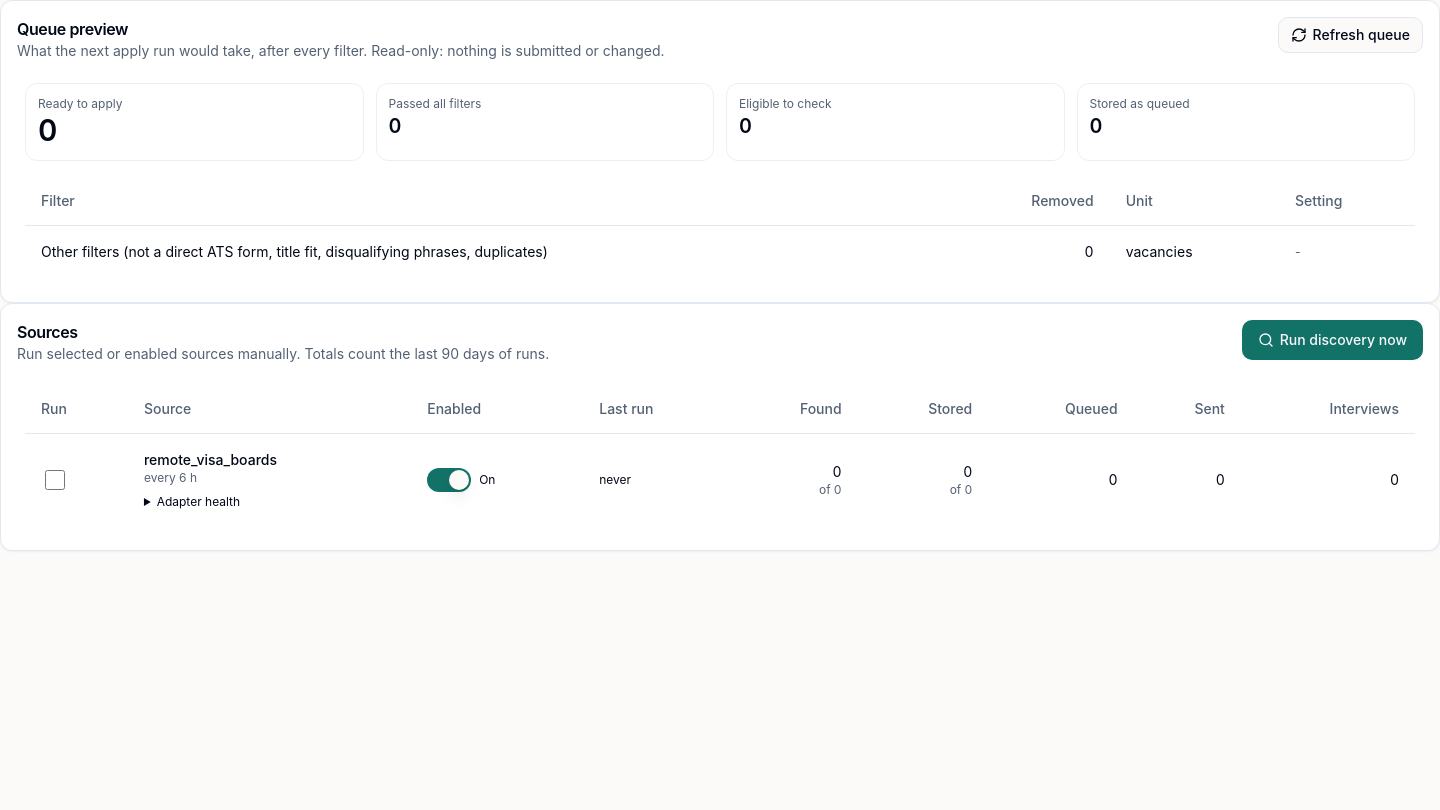
does not imply successful checks when no adapter history exists
What coordinates should you click on to do the following:
click the heading "Adapter health"
I would click on:
 (198, 502)
Its box is top-left (157, 494), bottom-right (240, 509).
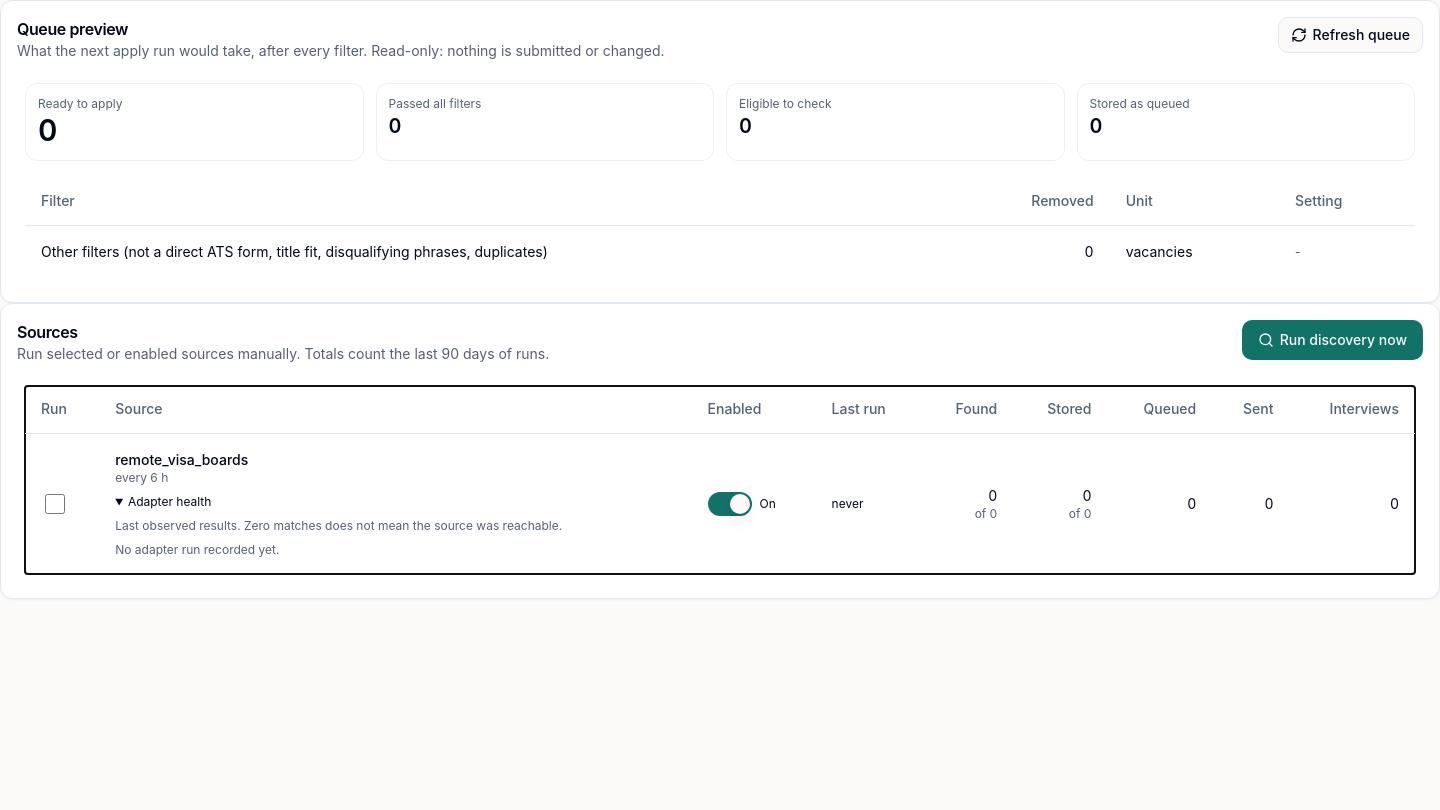
Now the text "No adapter run recorded yet." is shown, box top-left (115, 542), bottom-right (279, 557)
